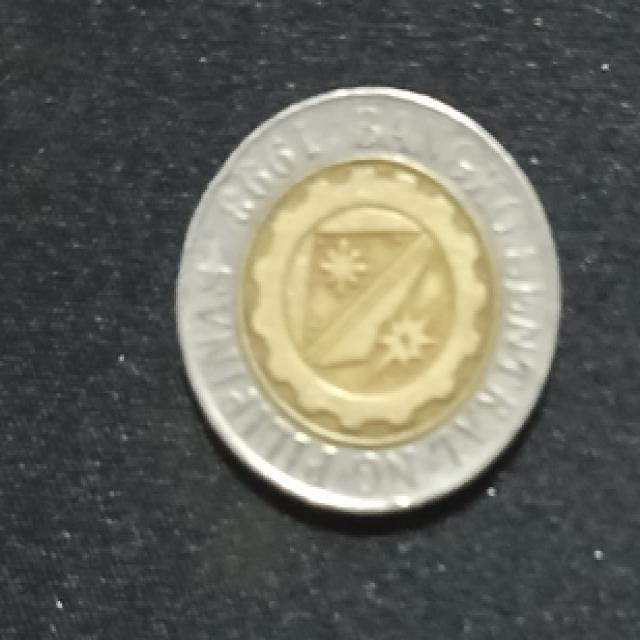10_peso: (178, 87, 559, 512)
